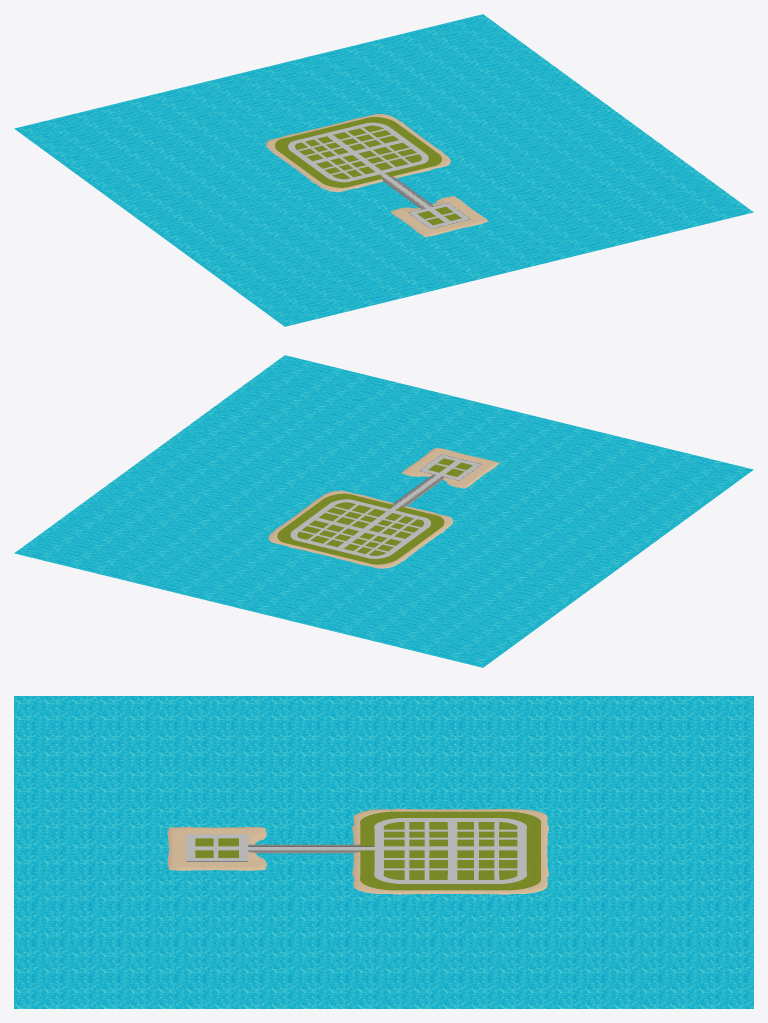
The model's file is Drift game.fbx.
3 views of the same model, one above another, from view 1: azimuth 30°, elevation 25°; view 2: azimuth 150°, elevation 25°; view 3: azimuth 270°, elevation 25° (orthographic). The views are drawn at different scales.
Visible parts, largest first — view 1: water, road, desert1, footpath1, grass; view 2: water, road, desert1, footpath1, grass; view 3: water, road, desert1, footpath1, grass, concert.
Boxes of the visible parts, bbox=[...] form: water: bbox=[14, 14, 753, 326]; road: bbox=[288, 122, 470, 228]; desert1: bbox=[266, 114, 488, 236]; footpath1: bbox=[288, 122, 471, 229]; grass: bbox=[275, 117, 441, 187]; water: bbox=[14, 355, 753, 667]; road: bbox=[291, 454, 481, 558]; desert1: bbox=[268, 447, 499, 568]; footpath1: bbox=[290, 454, 481, 558]; grass: bbox=[277, 493, 444, 564]; water: bbox=[14, 696, 753, 1008]; road: bbox=[186, 818, 526, 883]; desert1: bbox=[167, 808, 548, 894]; footpath1: bbox=[186, 818, 526, 883]; grass: bbox=[360, 811, 540, 890]; concert: bbox=[248, 844, 360, 853].
Bounding box in the file's own units: 632022 × 3083 × 632022.
